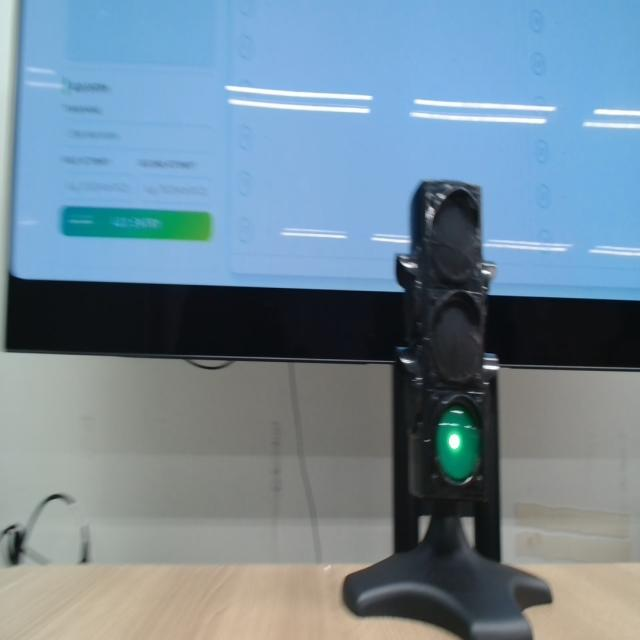green_light: (436, 405, 480, 482)
